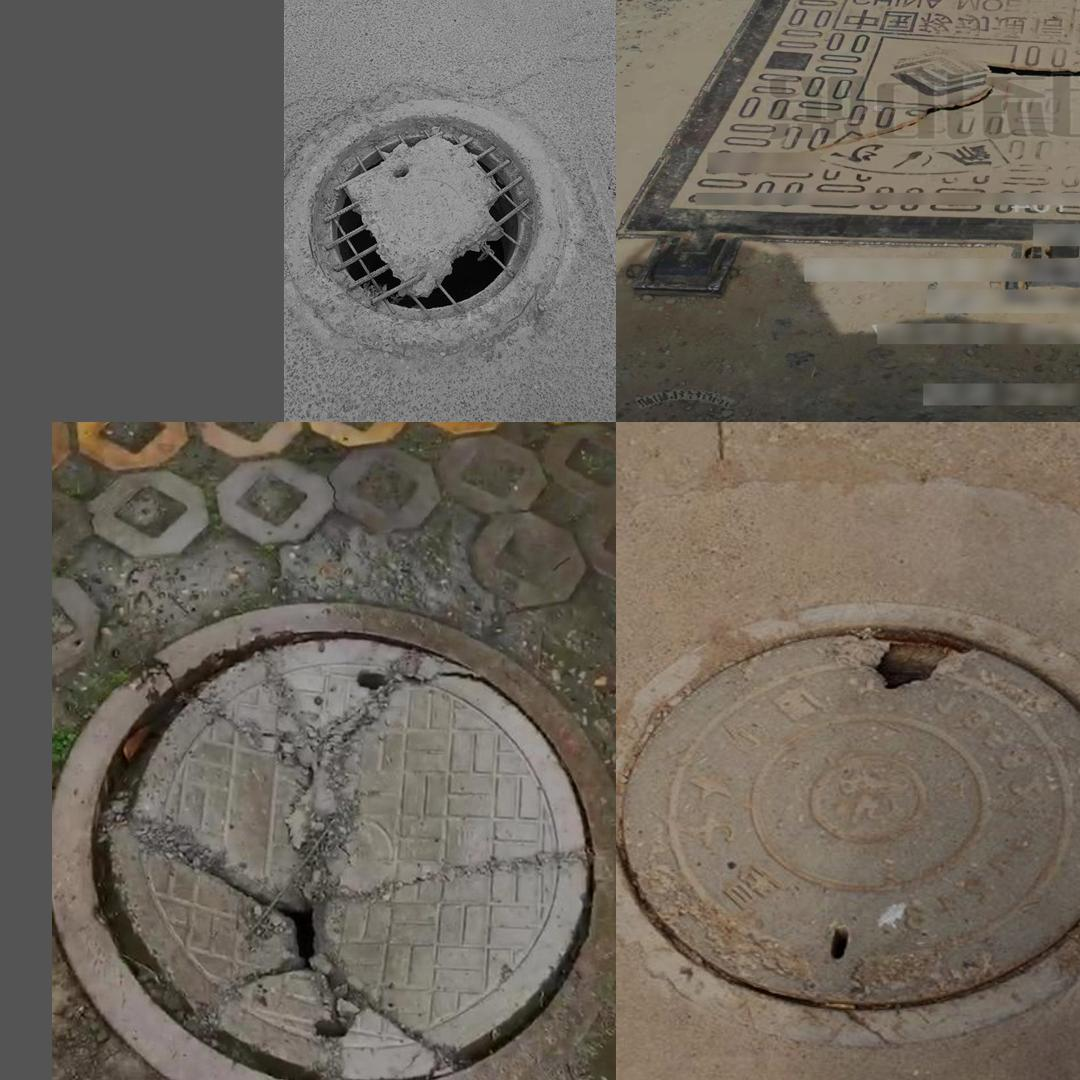broke: (63, 611, 597, 1080), (619, 590, 1080, 1041), (616, 0, 1080, 304), (296, 92, 553, 342)
